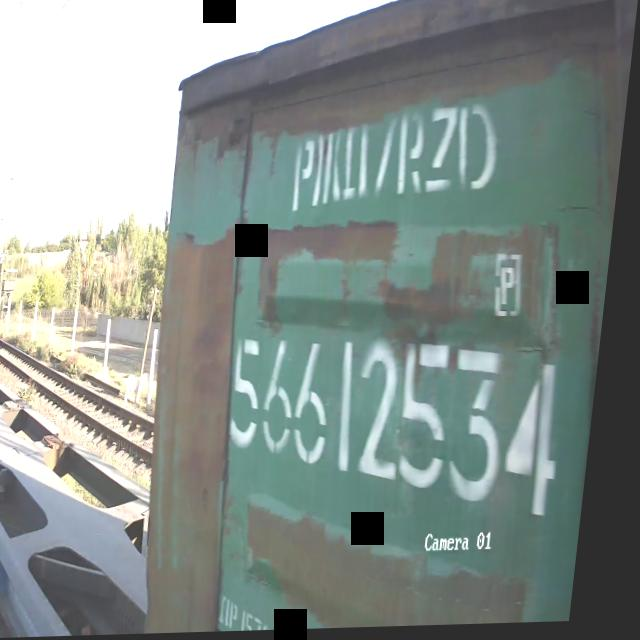flatcar: (0, 323, 193, 640)
gondola: (121, 0, 640, 636)
